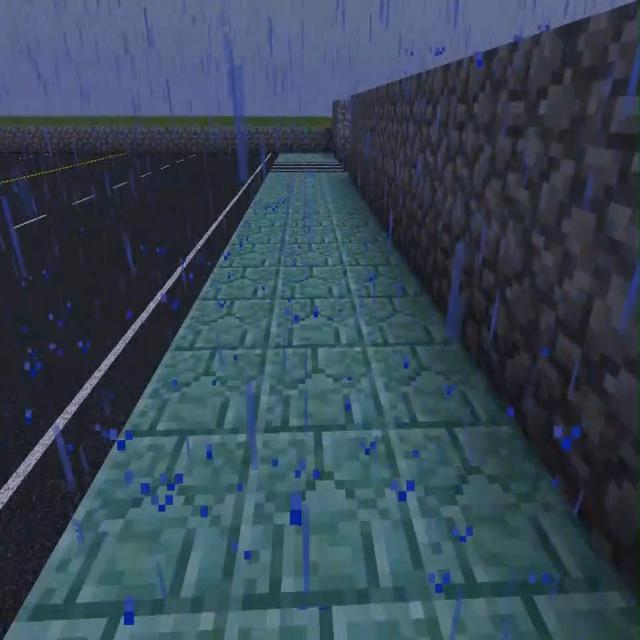8: (272, 162, 345, 170)
crosswalk: (2, 149, 271, 627)
road: (5, 171, 639, 639), (276, 151, 336, 160)
